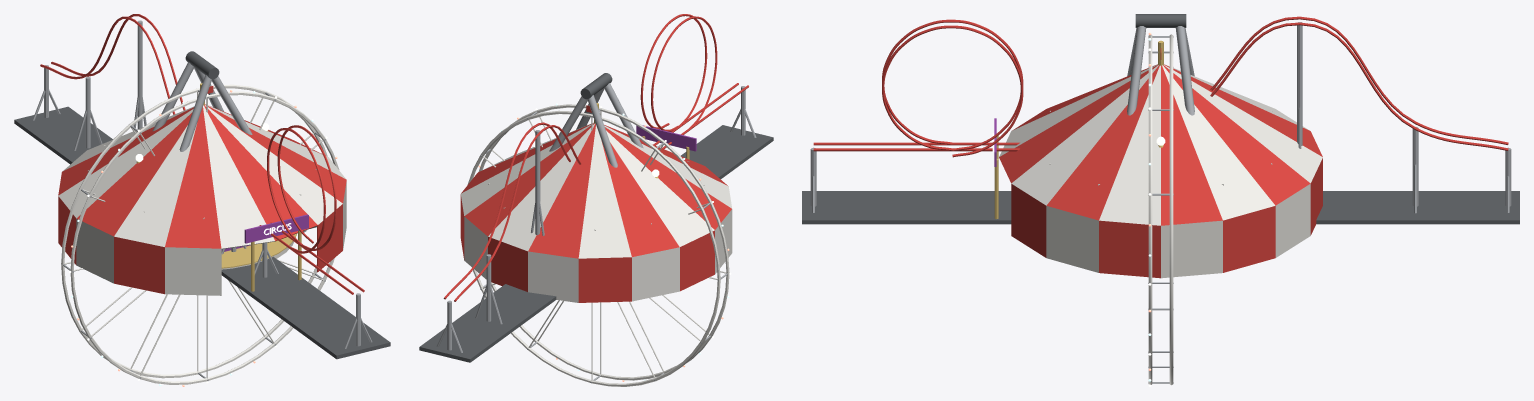
The model's file is park.glb.
3 renders of one model, left to right at view 1: azimuth 30°, elevation 25°; view 2: azimuth 150°, elevation 25°; view 3: azimuth 270°, elevation 25°, orthographic. The views are drawn at different scales.
Visible parts, largest first — view 1: big_top, coaster, ferris_wheel, ferris_frame, carousel_base; view 2: big_top, coaster, ferris_wheel, ferris_frame; view 3: big_top, coaster, ferris_wheel, ferris_frame.
Boxes of the visible parts, bbox=[...] form: big_top: bbox=[58, 83, 346, 295]; coaster: bbox=[14, 14, 390, 359]; ferris_wheel: bbox=[61, 84, 339, 386]; ferris_frame: bbox=[152, 51, 316, 251]; carousel_base: bbox=[87, 145, 316, 269]; big_top: bbox=[460, 103, 732, 302]; coaster: bbox=[419, 14, 773, 362]; ferris_wheel: bbox=[467, 103, 731, 386]; ferris_frame: bbox=[549, 73, 643, 167]; big_top: bbox=[992, 40, 1322, 278]; coaster: bbox=[802, 16, 1519, 224]; ferris_wheel: bbox=[1148, 32, 1173, 386]; ferris_frame: bbox=[1127, 14, 1194, 115].
Bounding box in the file's own units: 30.7 × 33.97 × 62.
